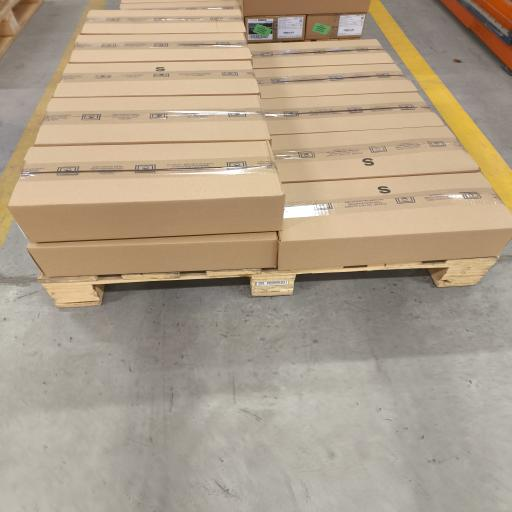pallet: (39, 257, 497, 307), (0, 0, 42, 57)
